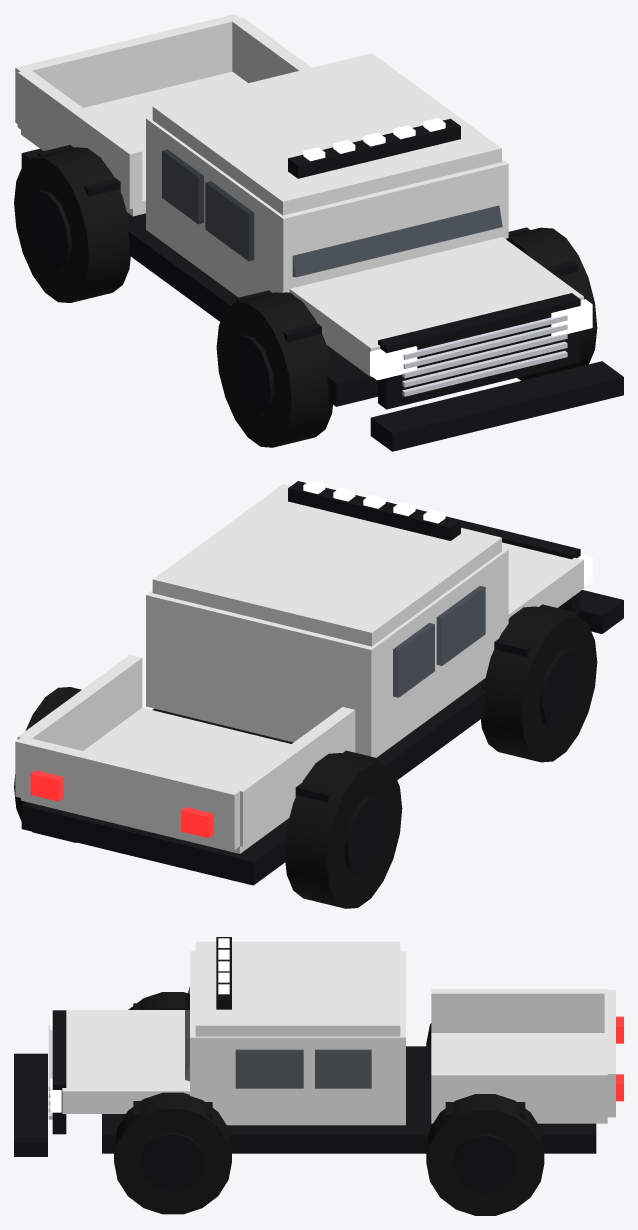
The model's file is coyota-tasmanian-devil.glb.
3 views of the same model, one above another, from view 1: azimuth 30°, elevation 25°; view 2: azimuth 150°, elevation 25°; view 3: azimuth 270°, elevation 25° (orthographic). The views are drawn at different scales.
Visible parts, largest first — view 1: chassis, wheel-back-left, wheel-front-left, glass, wheel-front-right; view 2: chassis, wheel-back-left, wheel-front-left, wheel-back-right; view 3: chassis, wheel-back-right, wheel-front-right, wheel-front-left, glass.
Part boxes in pixels (x1,y1,x2,y2): chassis: [15, 14, 623, 451]; wheel-back-left: [14, 147, 130, 302]; wheel-front-left: [216, 292, 332, 447]; glass: [292, 205, 502, 277]; wheel-front-right: [506, 227, 597, 380]; chassis: [15, 480, 623, 885]; wheel-back-left: [285, 753, 402, 908]; wheel-front-left: [481, 606, 597, 762]; wheel-back-right: [14, 687, 81, 842]; chassis: [14, 937, 623, 1156]; wheel-back-right: [426, 1094, 544, 1215]; wheel-front-right: [114, 1092, 231, 1214]; wheel-front-left: [128, 992, 189, 1009]; glass: [185, 986, 189, 1081].
Bounding box in the file's own units: 2.56 × 1.86 × 5.37.
